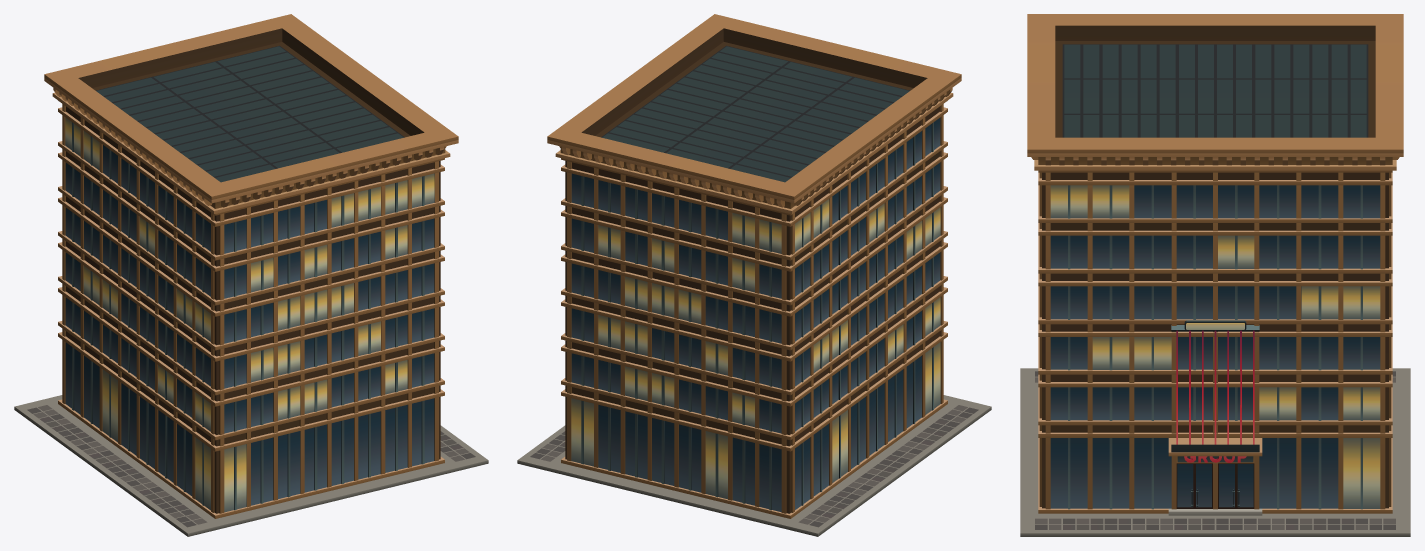
File: Building_13D.fbx
3 views of the same model, side by side, from view 1: azimuth 30°, elevation 25°; view 2: azimuth 150°, elevation 25°; view 3: azimuth 270°, elevation 25° (orthographic). The views are drawn at different scales.
Visible parts, largest first — view 1: Building_13D, Window_Lights_13D; view 2: Building_13D, Window_Lights_13D; view 3: Building_13D, Window_Lights_13D.
Part boxes in pixels (x1,y1,x2,y2): Building_13D: (14, 14, 488, 536); Window_Lights_13D: (65, 117, 434, 512); Building_13D: (517, 14, 991, 536); Window_Lights_13D: (571, 199, 940, 499); Building_13D: (1020, 14, 1410, 536); Window_Lights_13D: (1050, 185, 1380, 508).
Size of the model in its own units: 2800 by 2950 by 2800.
